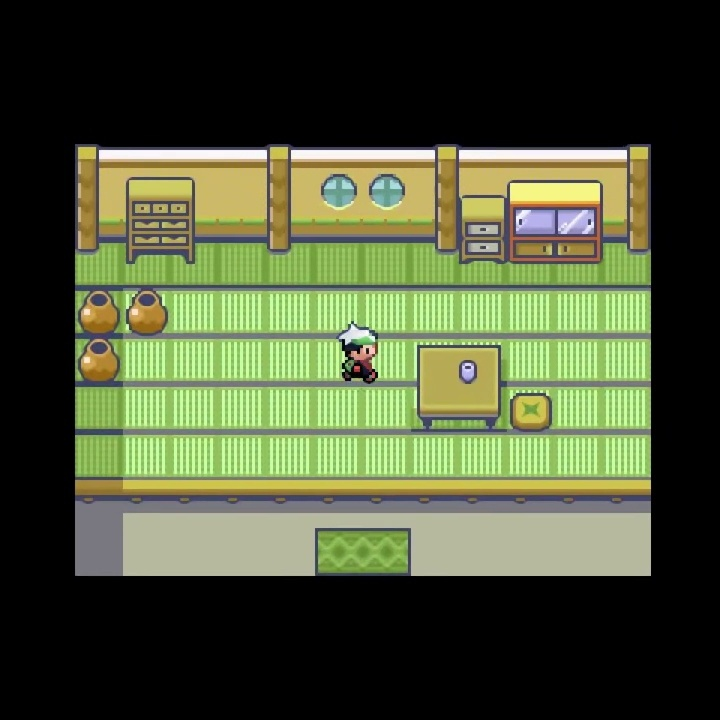npc: (335, 318, 382, 387)
